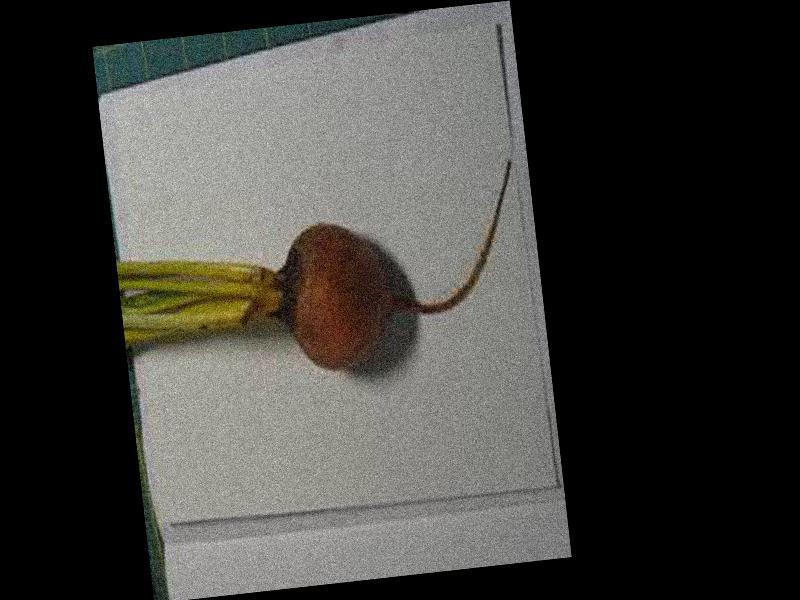Beet: (114, 161, 531, 392)
